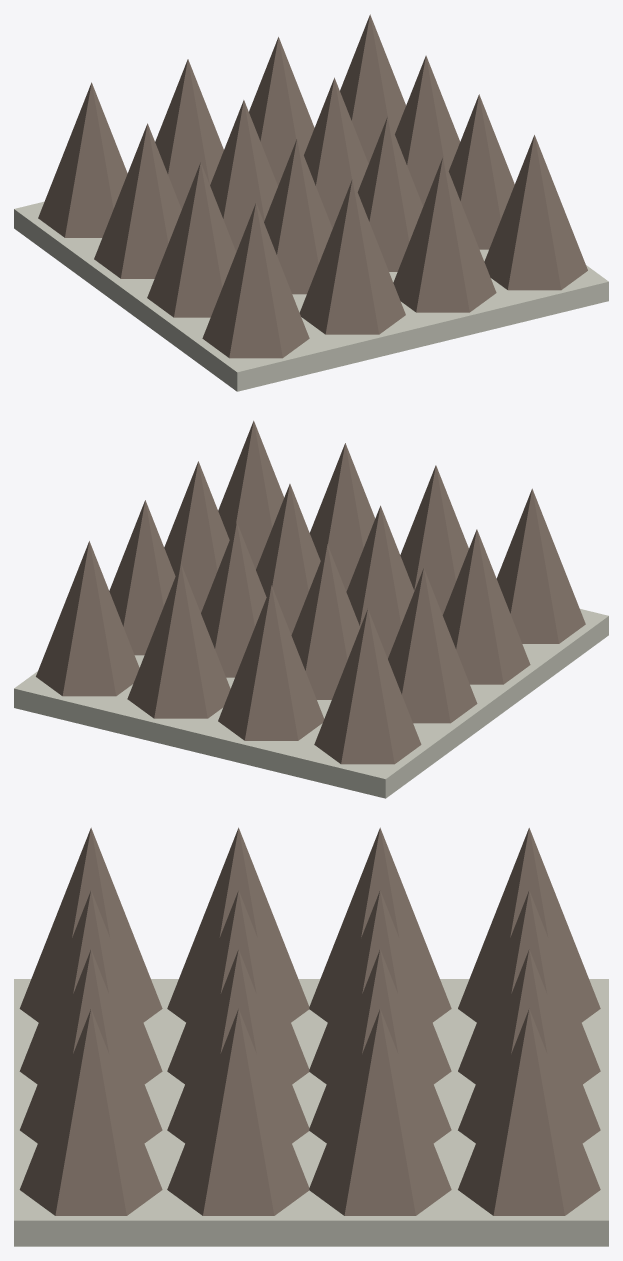
The model's file is spikes.fbx.
3 renders of one model, top to bottom at view 1: azimuth 30°, elevation 25°; view 2: azimuth 150°, elevation 25°; view 3: azimuth 270°, elevation 25°, orthographic. The views are drawn at different scales.
Parts seen in each view (by area): view 1: Cone.003, Cube; view 2: Cone.003, Cube; view 3: Cone.003, Cube.
Boxes of the visible parts, box(x1,y1,x2,y2) form: Cone.003: box(38, 14, 587, 358); Cube: box(14, 201, 608, 391); Cone.003: box(36, 420, 585, 764); Cube: box(14, 609, 608, 798); Cone.003: box(19, 827, 600, 1215); Cube: box(14, 979, 608, 1246).
Bounding box in the file's own units: 400 × 161 × 416.
